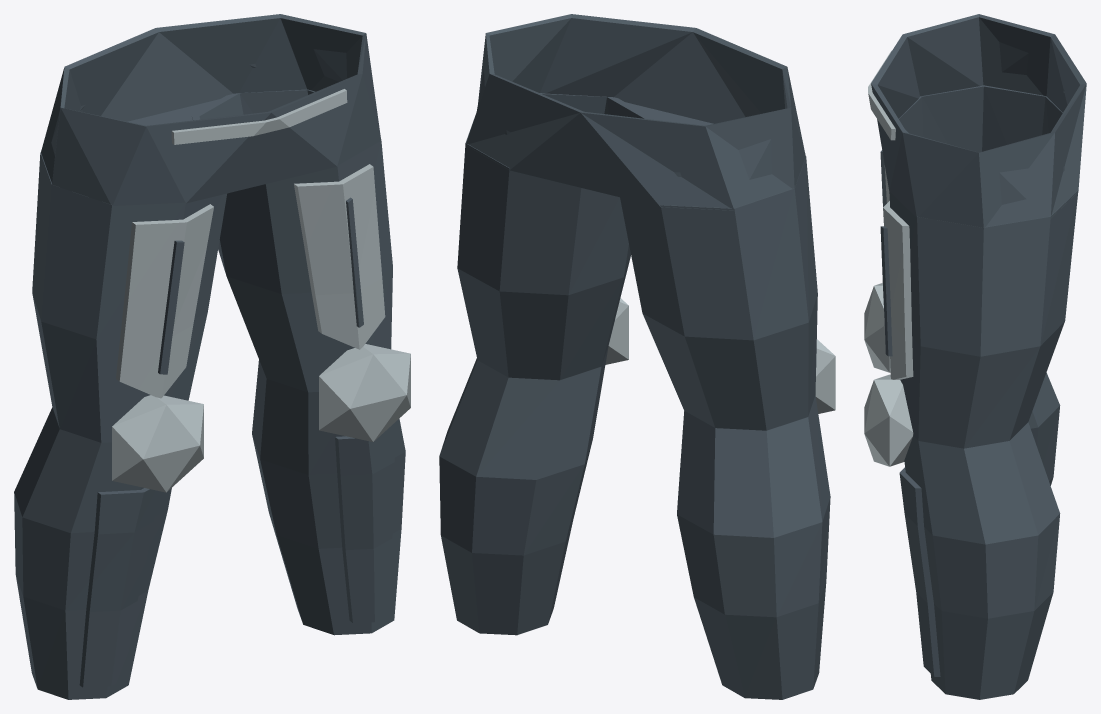
The model's file is plate_legs-male.glb.
The picture shows the model from 3 angles, left to right: view 1: azimuth 30°, elevation 25°; view 2: azimuth 150°, elevation 25°; view 3: azimuth 270°, elevation 25°; orthographic projection. The views are drawn at different scales.
Visible parts, largest first — view 1: plate trouser pelvis yoke, plate trouser leg -1, plate trouser leg 1, Thigh plate -1, Thigh plate 1, Shin plate -1, Shin plate 1, Knee plate -1, Knee plate 1, Trouser waist facing, Thigh folded center ridge -1, Thigh folded center ridge 1; view 2: plate trouser leg -1, plate trouser leg 1, plate trouser pelvis yoke, Knee plate -1, Knee plate 1; view 3: plate trouser leg 1, plate trouser pelvis yoke, plate trouser leg -1, Thigh plate 1, Shin plate 1, Knee plate 1, Knee plate -1, Thigh folded center ridge 1, Trouser waist facing.
Boxes of the visible parts, x1,y1,x2,y2 form: plate trouser pelvis yoke: (41,14,380,205); plate trouser leg -1: (14,123,227,699); plate trouser leg 1: (191,89,405,635); Thigh plate -1: (116,204,213,398); Thigh plate 1: (294,164,385,349); Shin plate -1: (79,488,160,687); Shin plate 1: (335,423,394,623); Knee plate -1: (112,395,203,492); Knee plate 1: (319,344,410,441); Trouser waist facing: (171,89,347,144); Thigh folded center ridge -1: (158,240,184,374); Thigh folded center ridge 1: (346,197,363,327); plate trouser leg -1: (620,156,830,699); plate trouser leg 1: (439,93,654,635); plate trouser pelvis yoke: (466,14,805,210); Knee plate -1: (815,339,835,413); Knee plate 1: (605,298,628,364); plate trouser leg 1: (889,190,1078,699); plate trouser pelvis yoke: (871,14,1086,227); plate trouser leg -1: (899,85,1062,485); Thigh plate 1: (883,201,913,379); Shin plate 1: (899,467,940,676); Knee plate 1: (864,374,913,466); Knee plate -1: (864,283,890,372); Thigh folded center ridge 1: (880,226,892,356); Trouser waist facing: (868,50,895,140).
Bounding box in the file's own units: 2.43 × 3.57 × 1.34.
